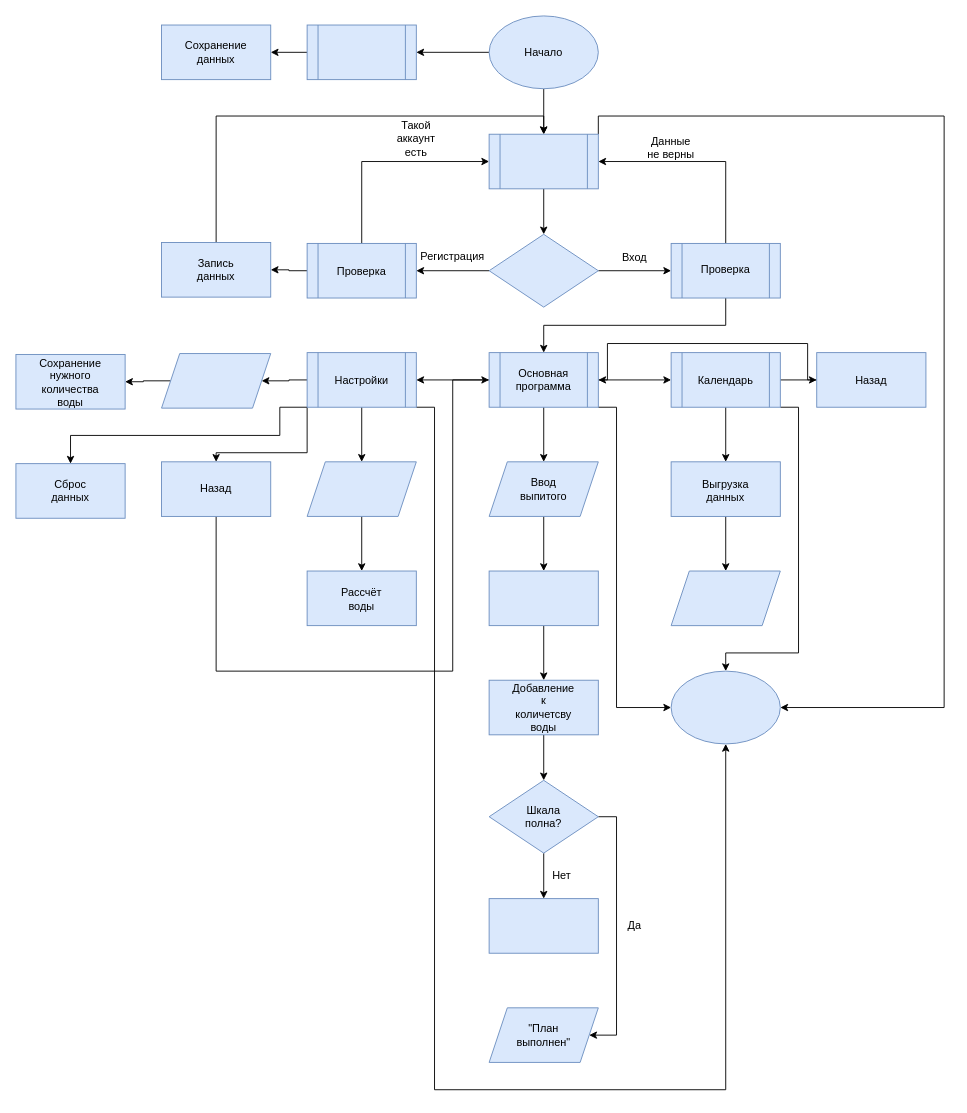
Some shapes in this 967 by 1113 pixel diagram are drawn without their labels. The box of each missing label's shape, as (x1, y1, x2, y2) in pixels:
Авторизация: (488, 133, 598, 189)
Ввод веса для рассчёта воды: (306, 461, 416, 516)
Вывод данных: (670, 570, 780, 626)
Заполнение шкалы: (488, 898, 598, 953)
Кнопка выпить: (488, 570, 598, 626)
Конец: (670, 670, 780, 744)
Ручной ввод воды: (161, 353, 271, 408)
Смена темы: (306, 24, 416, 80)
Условие: (488, 233, 598, 307)
